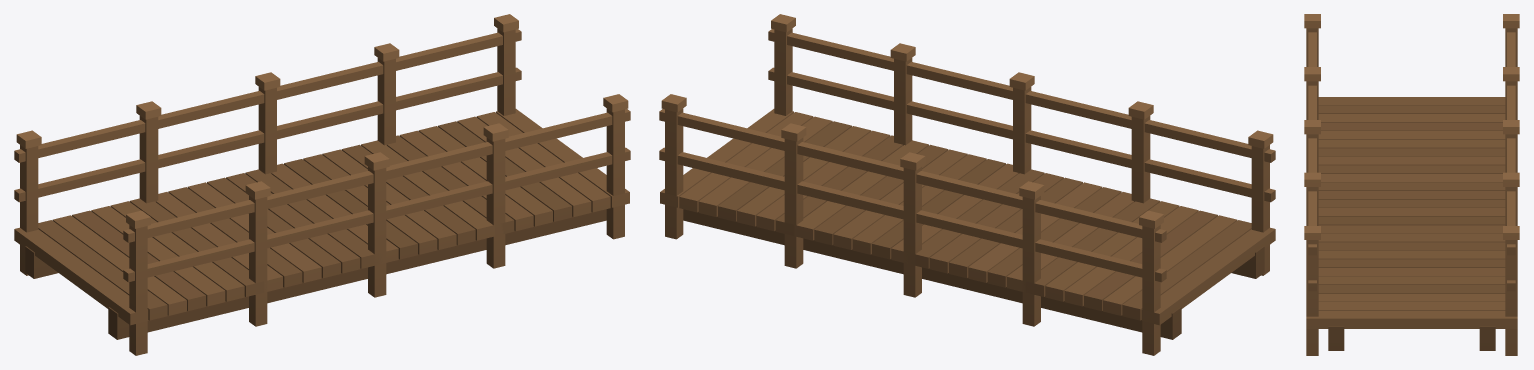
File: town_bridge_wood.glb
3 views of the same model, side by side, from view 1: azimuth 30°, elevation 25°; view 2: azimuth 150°, elevation 25°; view 3: azimuth 270°, elevation 25° (orthographic). The views are drawn at different scales.
Visible parts, largest first — view 1: town_bridge_wood; view 2: town_bridge_wood; view 3: town_bridge_wood.
Part boxes in pixels (x1,y1,x2,y2): town_bridge_wood: (14, 14, 630, 355); town_bridge_wood: (659, 14, 1275, 355); town_bridge_wood: (1304, 14, 1519, 355).
Bounding box in the file's own units: 6 × 1.55 × 2.45.
